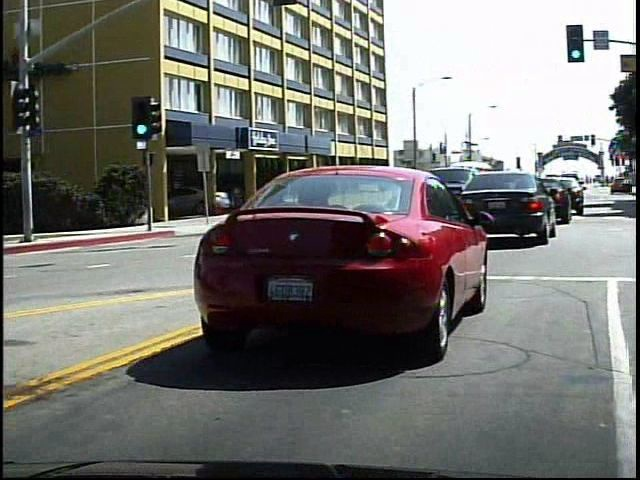person: (270, 180, 288, 216)
